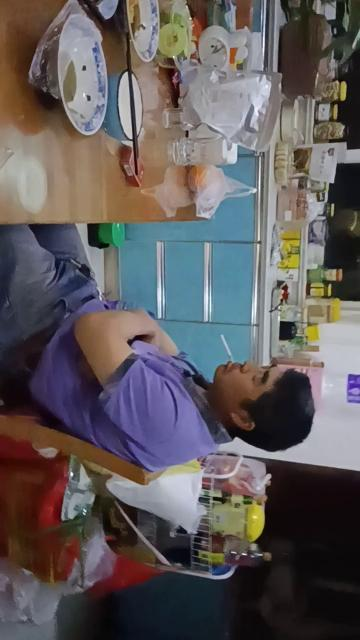Smoking: (221, 334, 234, 364)
